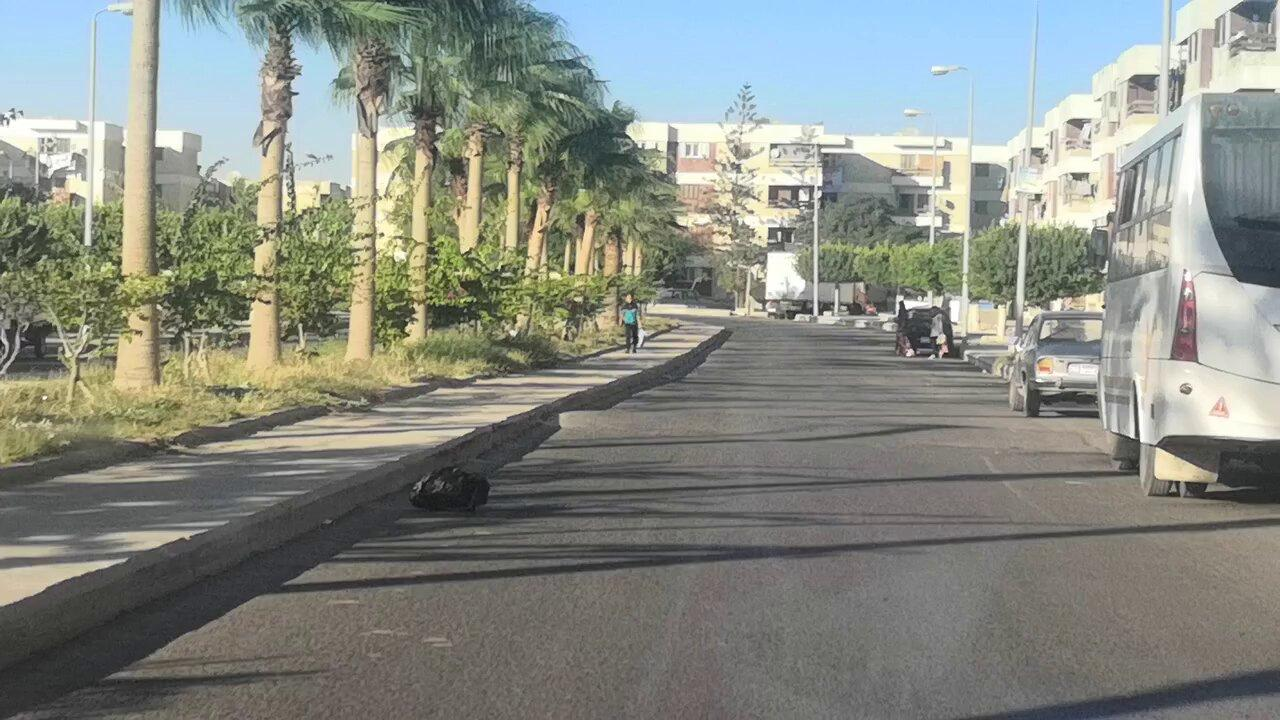Bump: (550, 403, 1113, 450)
